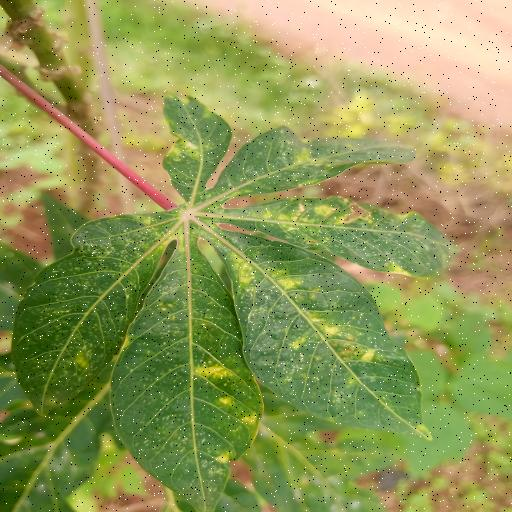Cassava_Mosaic: (11, 97, 451, 512)
